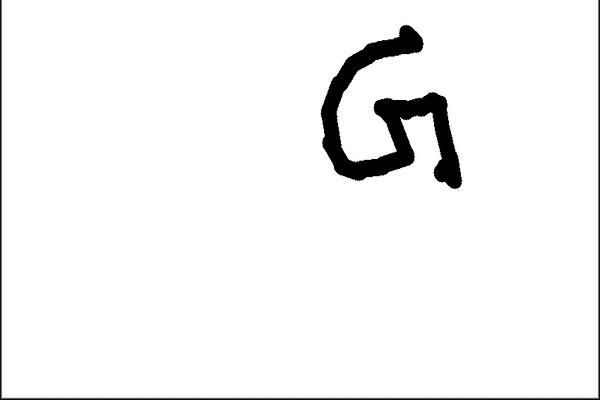G: (318, 22, 467, 192)
